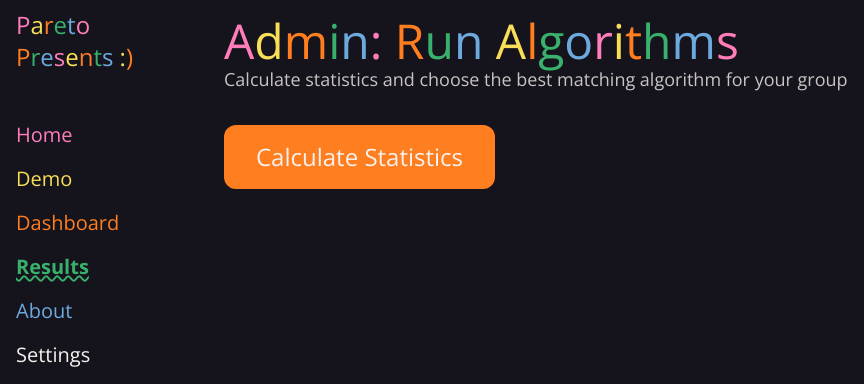
it: ResultsPage › Admin - Calculate Statistics › shows loading state while calculating
The image size is (864, 384).
Click the button "Calculate Statistics" at {"x": 360, "y": 157}, box [224,125,495,189]
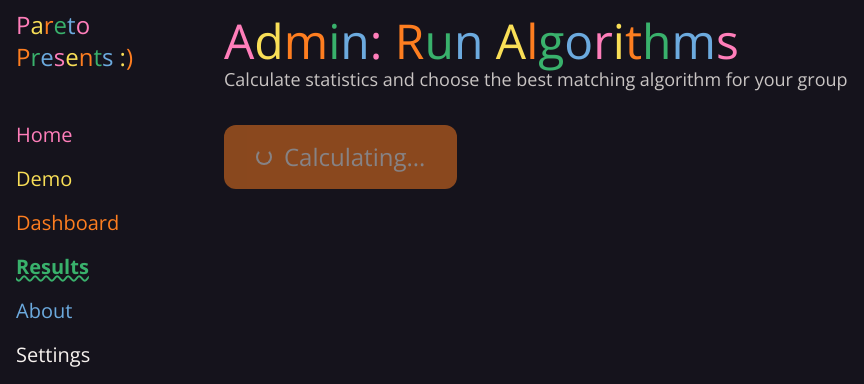
expect the text "Calculating..." is shown: met, box [284,141,425,173]
